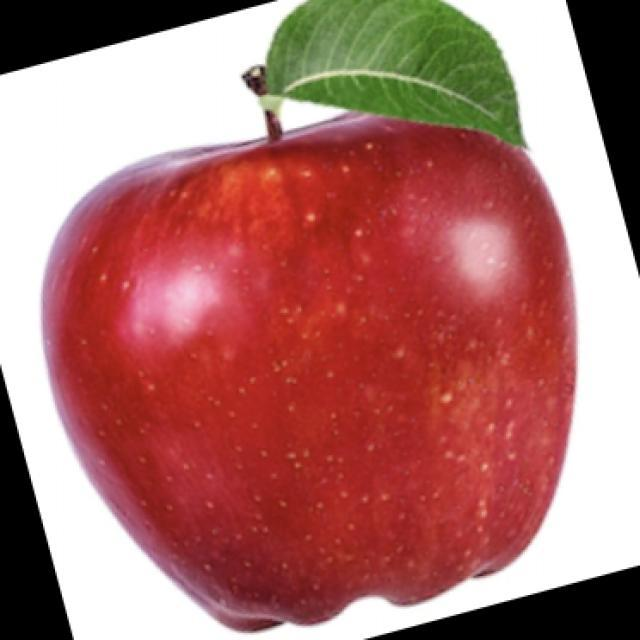Fresh Apple: (50, 115, 563, 612)
